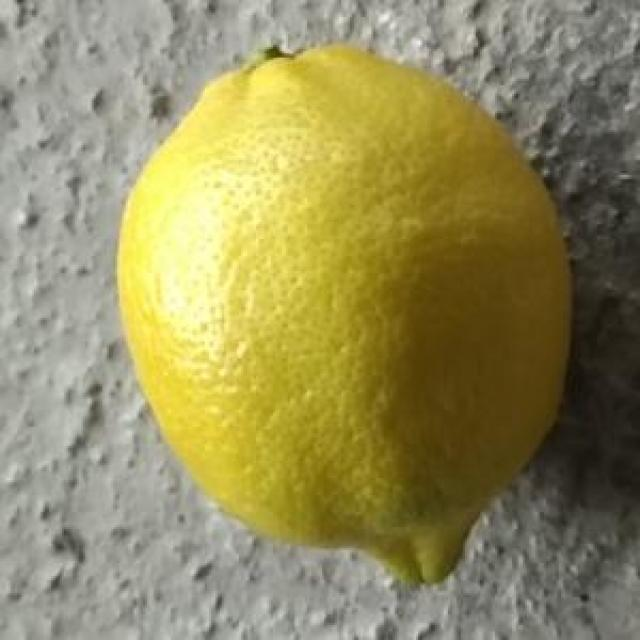lemon: (112, 42, 582, 594)
